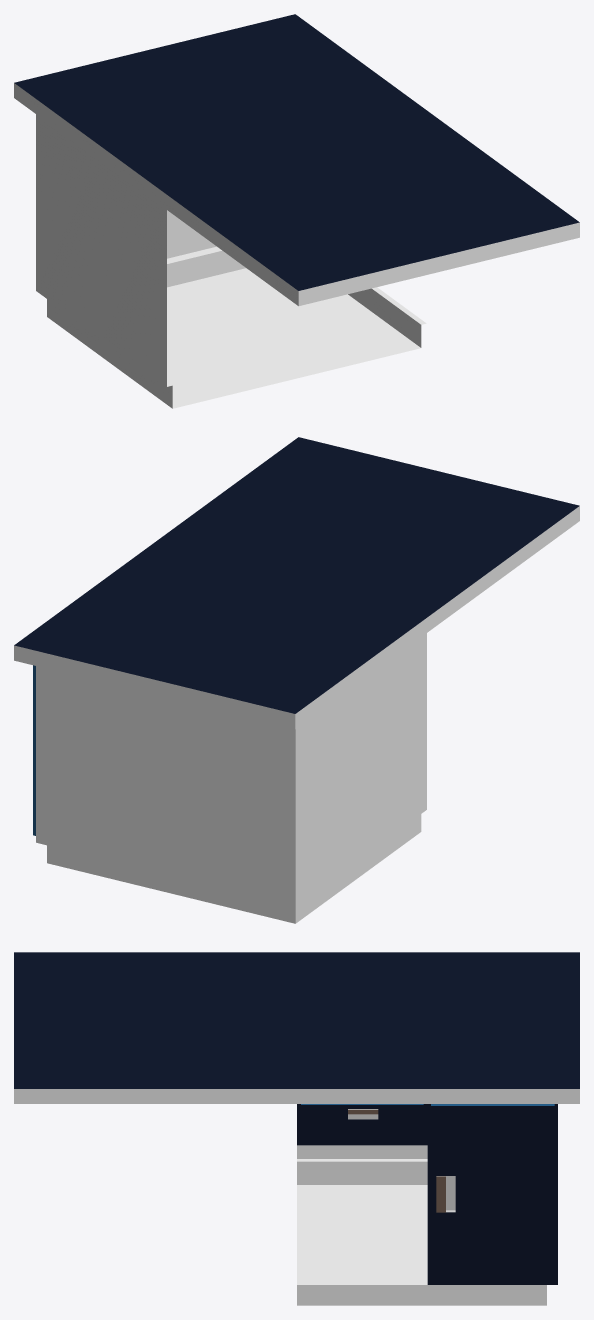
Rendered from Lab2.fbx.
3 views of the same model, one above another, from view 1: azimuth 30°, elevation 25°; view 2: azimuth 150°, elevation 25°; view 3: azimuth 270°, elevation 25° (orthographic).
Visible parts, largest first — view 1: Lab2; view 2: Lab2; view 3: Lab2.
Boxes of the visible parts, left/top/right/bottom form: Lab2: left=14, top=14, right=579, bottom=408; Lab2: left=14, top=437, right=579, bottom=923; Lab2: left=14, top=952, right=579, bottom=1305.
Bounding box in the file's own units: 556 × 426 × 974.
